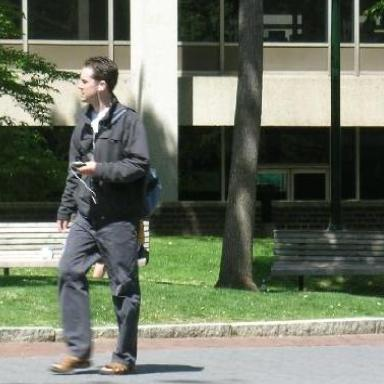ped: (48, 59, 149, 375)
